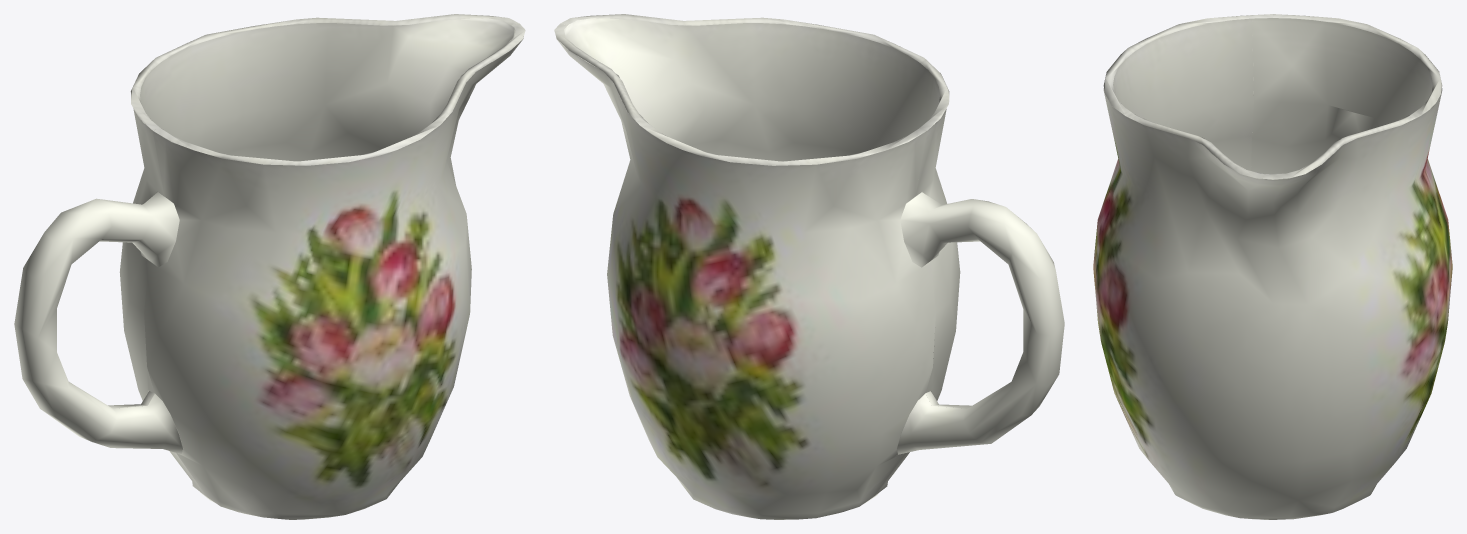
File: milk_jug.glb
The picture shows the model from 3 angles, left to right: view 1: azimuth 30°, elevation 25°; view 2: azimuth 150°, elevation 25°; view 3: azimuth 270°, elevation 25°; orthographic projection. The views are drawn at different scales.
Visible parts, largest first — view 1: jug_01; view 2: jug_01; view 3: jug_01.
Boxes of the visible parts, x1,y1,x2,y2 form: jug_01: (14,14,525,519); jug_01: (554,14,1064,519); jug_01: (1093,14,1452,519).
Size of the model in its own units: 0.276 by 0.2107 by 0.1679.
1 material, 1 textured.
